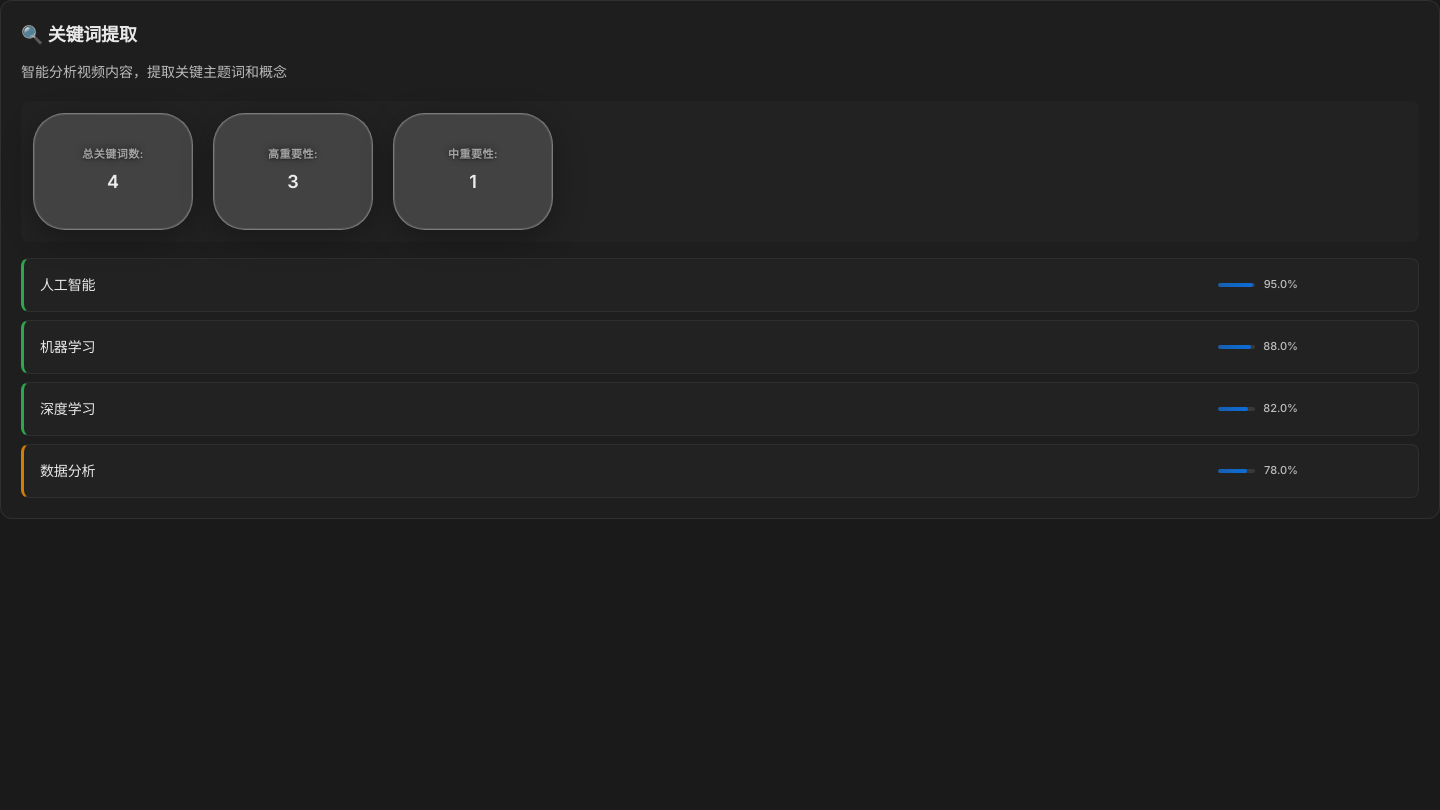
Test: KeywordExtractor.vue › 关键词选择 › 应该能够选择关键词
The width and height of the screenshot is (1440, 810).
Click the button with class "keyword-item" showing "人工智能 95.0%" at (68, 284), box [21, 258, 1419, 312]
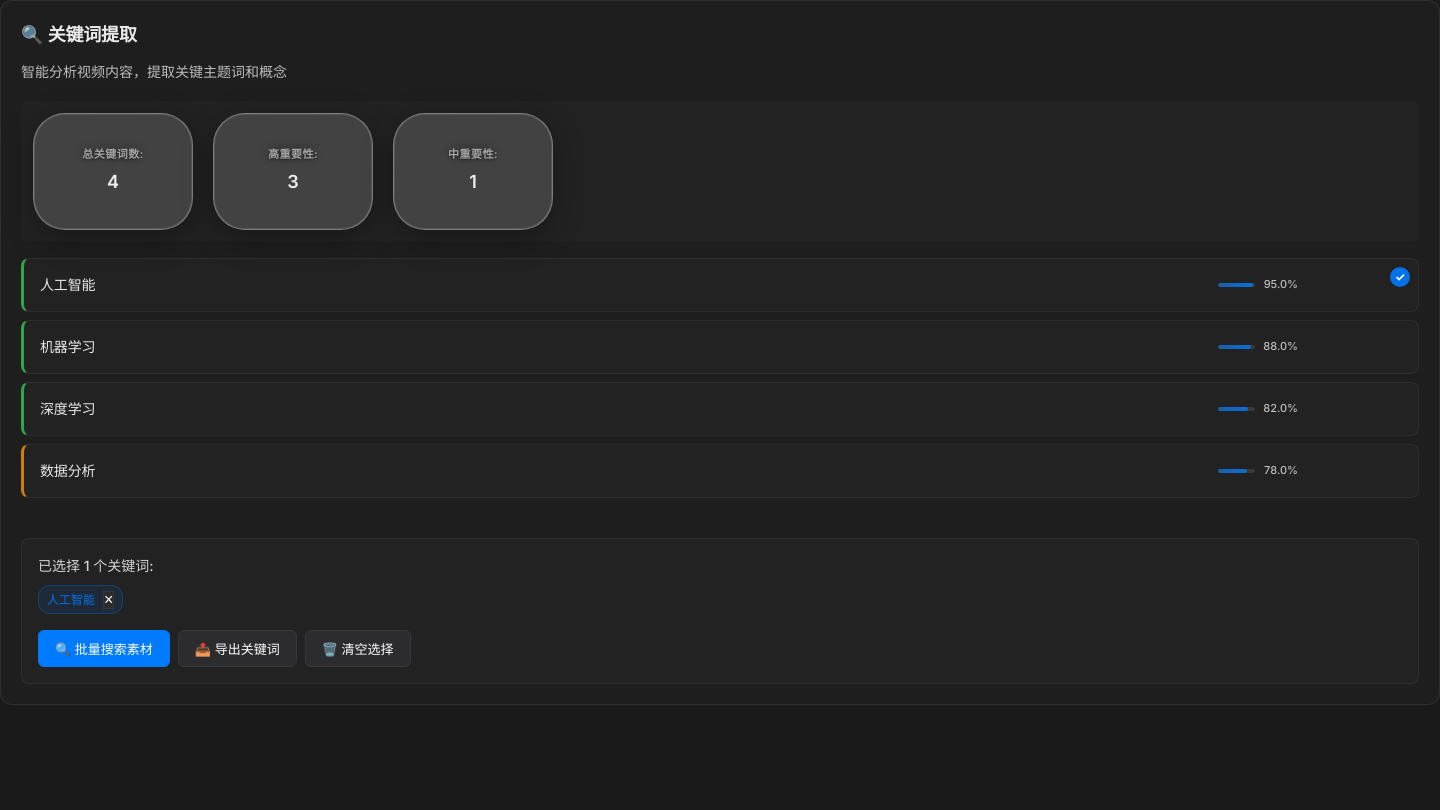
Expected: the text "人工智能" is shown, [40, 276, 96, 293]
Result: the text "✓" is shown at [1390, 267, 1410, 287]
